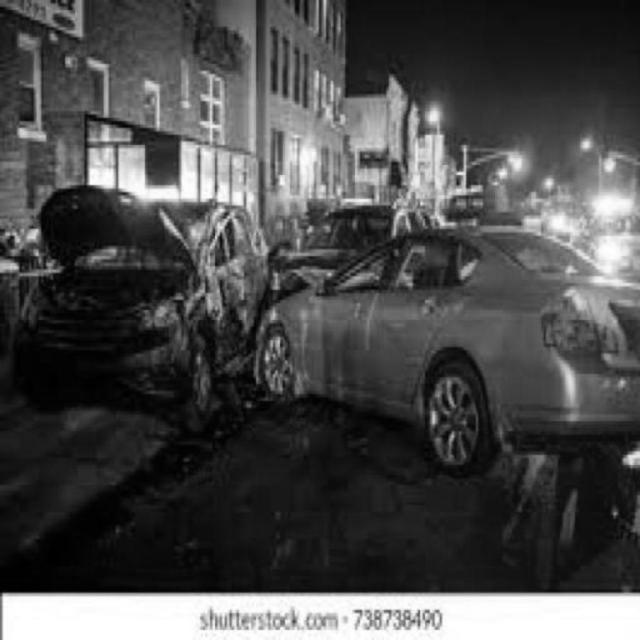accident: (50, 200, 640, 462)
